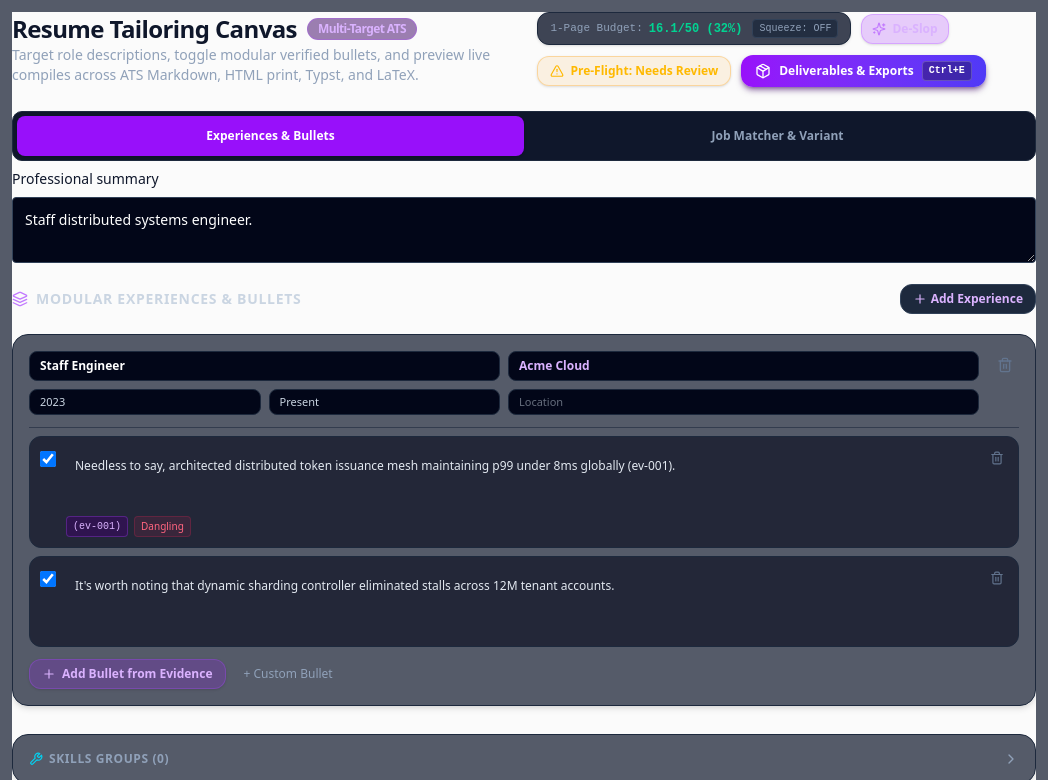
Test: Subagent C: UI Anti-Slop Integration Tests › ResumeTailor De-Slop Integration › renders De-Slop button and strips empty hedging stems while preserving metrics and citations
Expected: the heading "Resume Tailoring Canvas Multi-Target ATS" is shown, left=12, top=12, right=417, bottom=45
Expected: the 1st text box showing "Needless to say, architected distributed" is shown, left=66, top=447, right=976, bottom=504
# Click De-Slop
Click the button "De-Slop" at (905, 29), box left=862, top=14, right=949, bottom=44
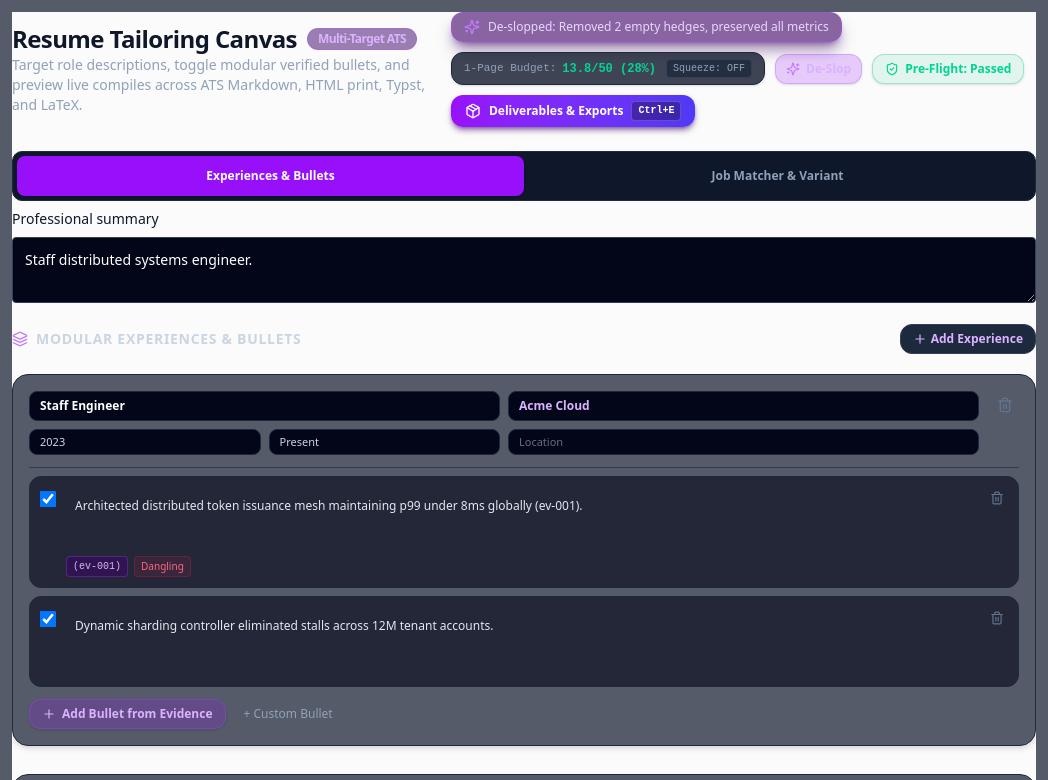
Expected: the 1st text box showing "Architected distributed token issuance mesh maintaining p99 under 8ms globally (ev-001)" is shown, left=66, top=487, right=976, bottom=544
Expected: the text "De-slopped: Removed 2 empty hedges, preserved all metrics" is shown, left=488, top=19, right=829, bottom=35
